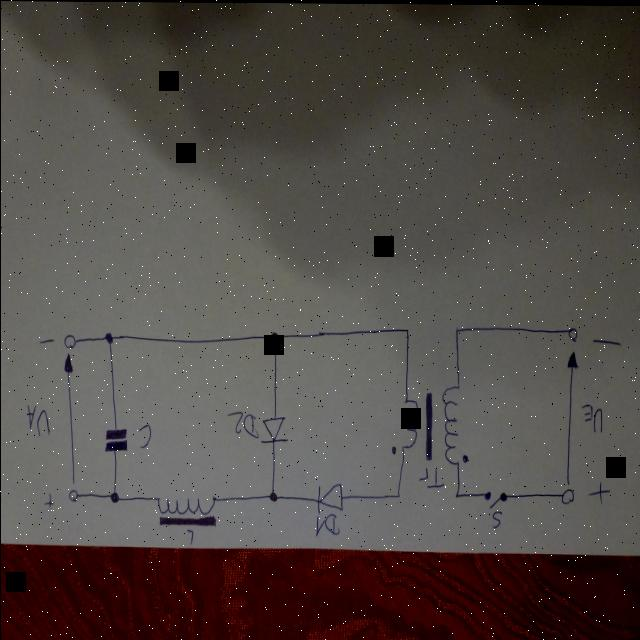capacitor: (102, 423, 130, 454)
diode: (259, 415, 289, 447), (316, 481, 344, 515)
inductor: (156, 493, 218, 530)
junction: (266, 488, 280, 505), (102, 331, 115, 348), (108, 490, 122, 505), (269, 330, 280, 346), (452, 322, 462, 339), (403, 325, 411, 336), (394, 489, 402, 499), (454, 490, 462, 500)
switch: (483, 490, 508, 509)
terminal: (560, 485, 576, 505), (566, 324, 580, 342), (62, 334, 76, 350), (68, 488, 80, 504)
text: (226, 409, 260, 440), (24, 405, 52, 439), (581, 402, 605, 434), (417, 466, 445, 491), (314, 512, 340, 538), (136, 422, 152, 450), (490, 509, 504, 530), (183, 528, 196, 546)
transformer: (389, 382, 471, 466)
